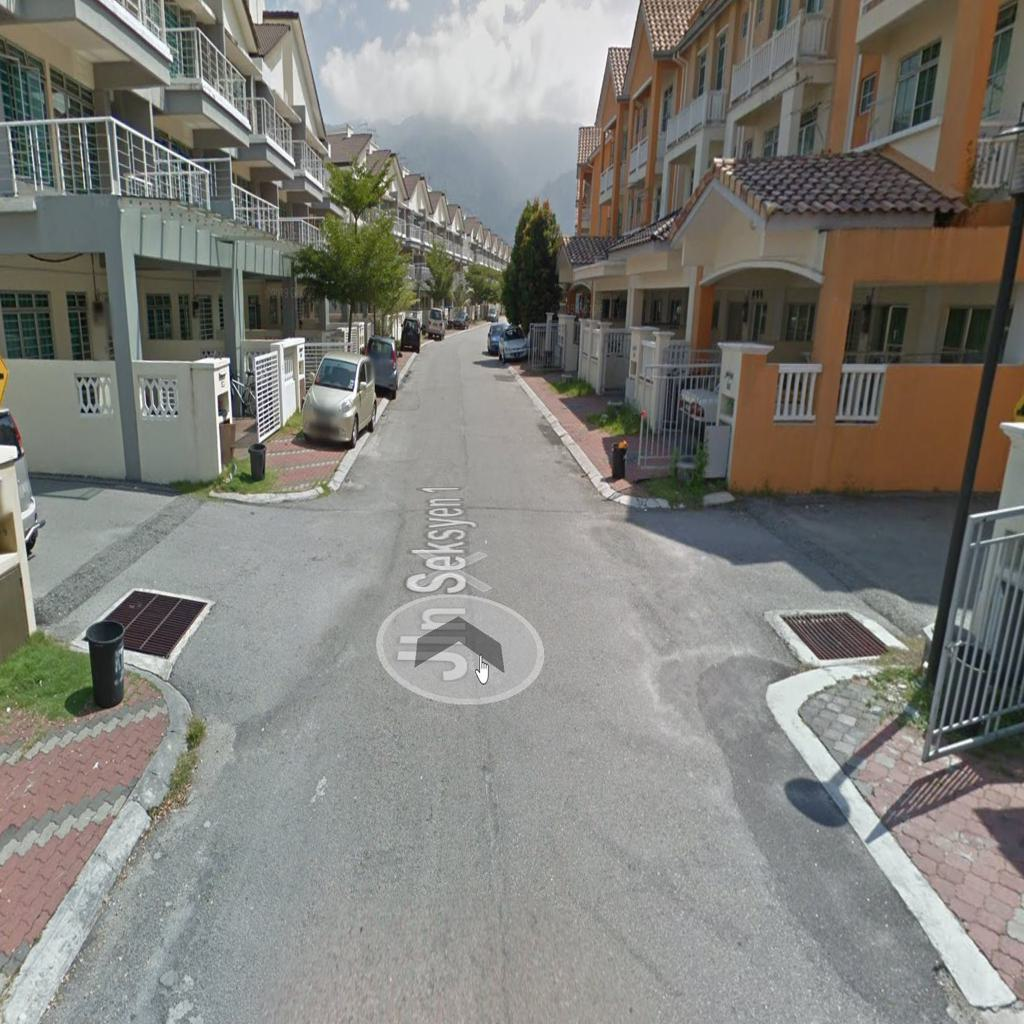Junction: (577, 457, 970, 733), (39, 441, 325, 753)
